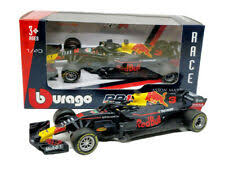FormulaOneCar: (24, 89, 215, 160)
